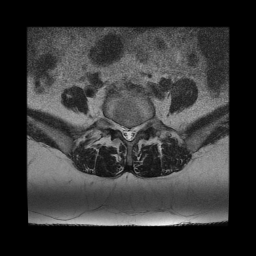CCS_normal: (126, 120, 131, 145)
LFS_normal: (137, 118, 143, 137)
LLS_normal: (131, 120, 137, 142)
RFS_normal: (114, 116, 120, 137)
RLS_normal: (120, 120, 126, 142)
